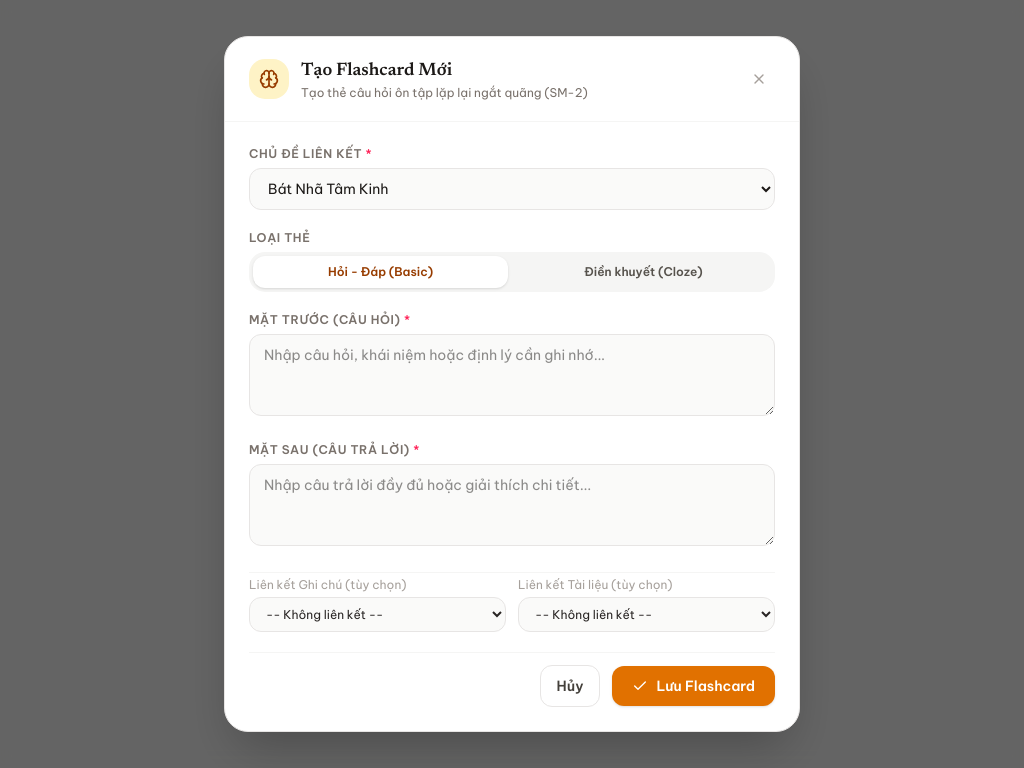
Test: FlashcardFormModal — Unit Tests › validates cloze card: rejects when cloze pattern is missing
The width and height of the screenshot is (1024, 768).
// Switch to cloze
Step 1. Click the button with test id "type-toggle-cloze" → (644, 272), box x1=516 y1=256 x2=771 y2=288
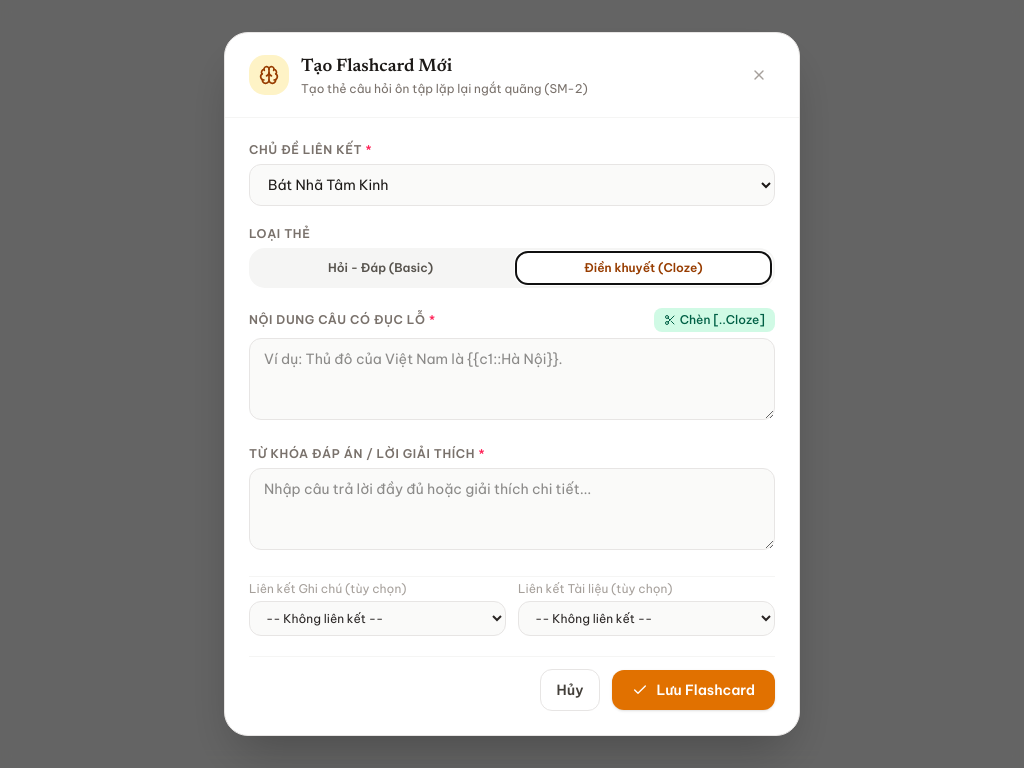
Step 2. Type "Sắc tức thị không (không có ngoặc nhọn)" into the text box with test id "input-front" → (512, 379), box x1=249 y1=338 x2=775 y2=420
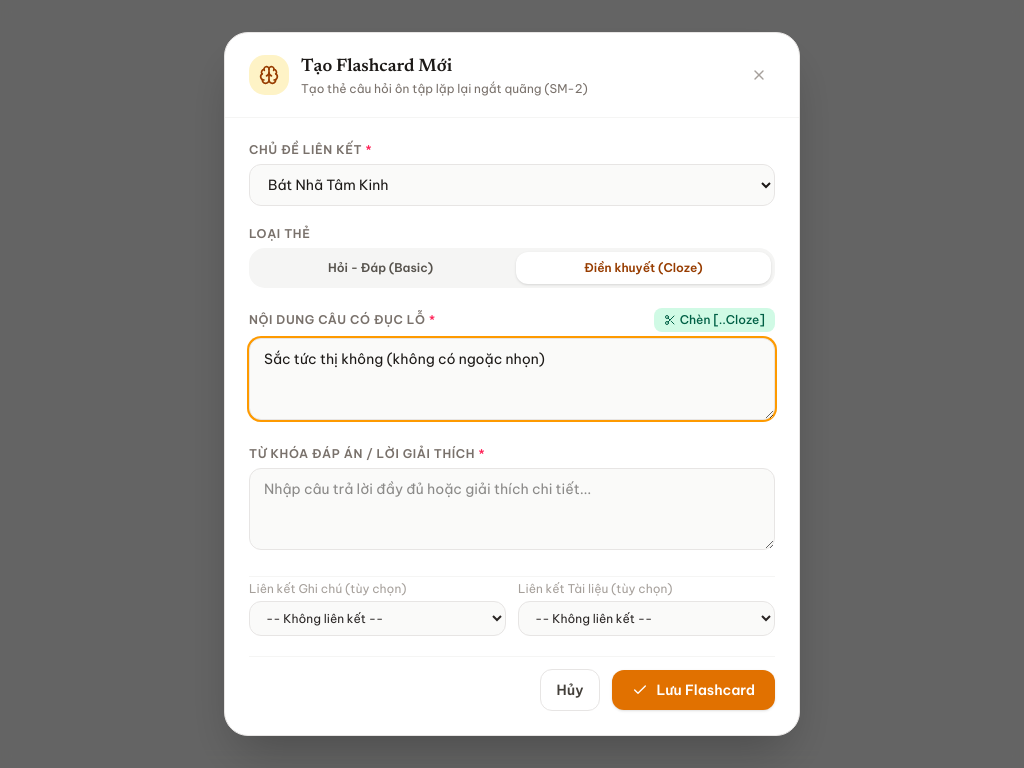
Step 3. Type "Không" into the text box with test id "input-back" → (512, 509), box x1=249 y1=468 x2=775 y2=550
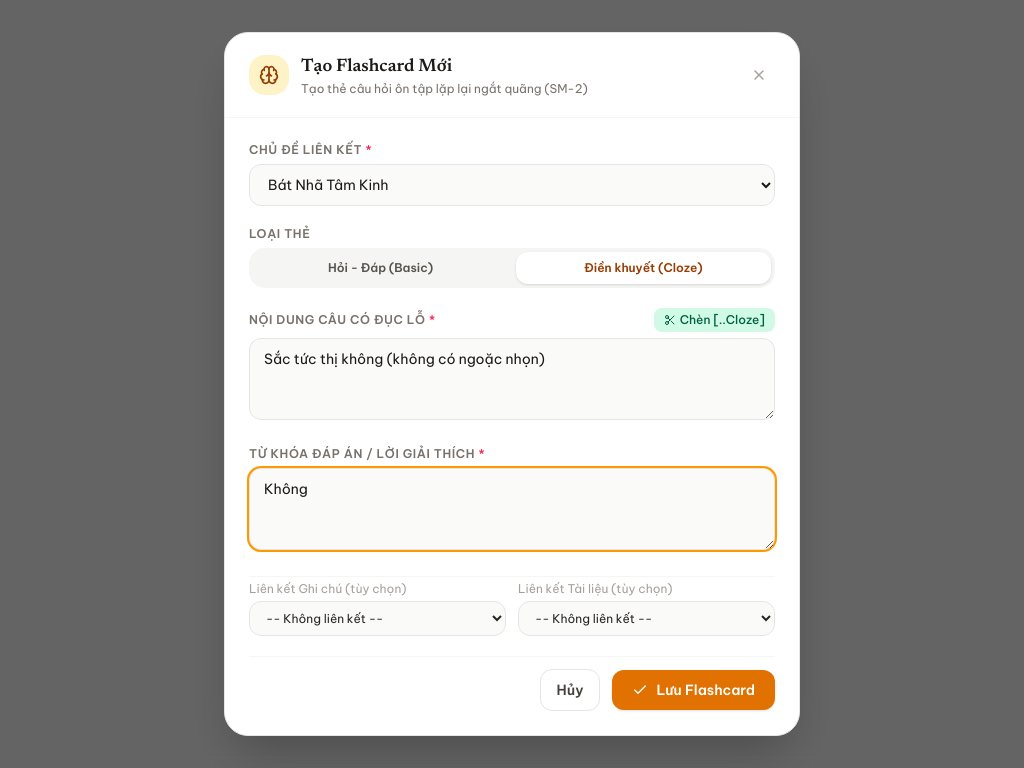
Step 4. Click the button with test id "btn-submit-flashcard" → (694, 690), box x1=612 y1=670 x2=775 y2=710
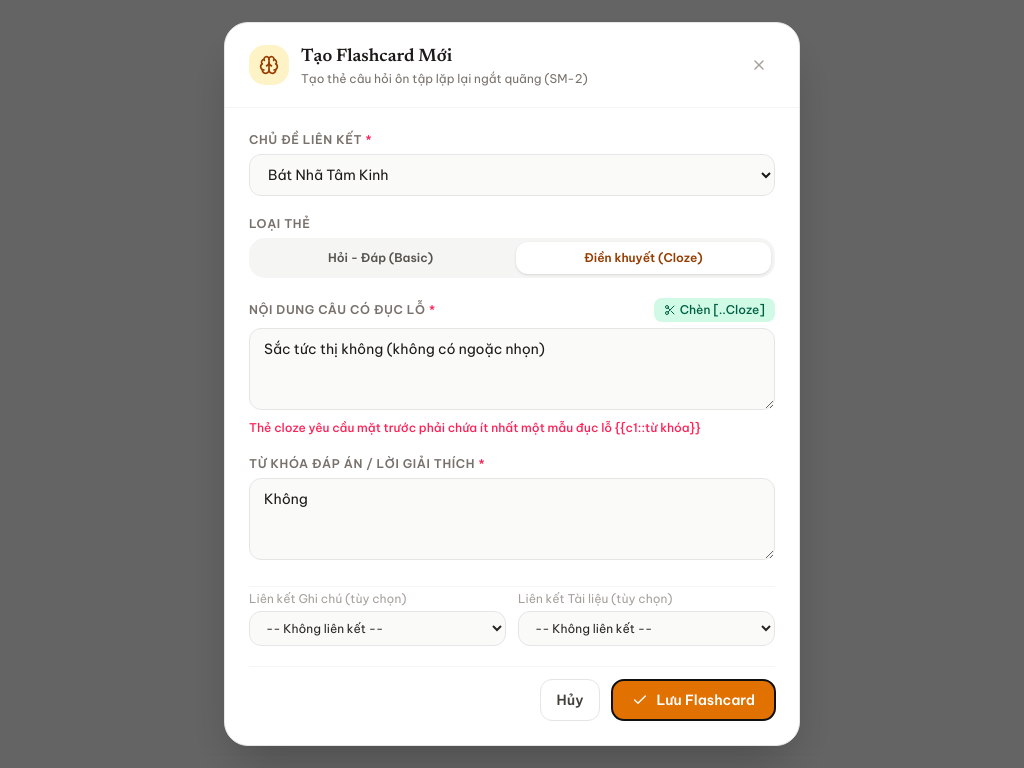
Check: the text with test id "error-front" is shown, box x1=249 y1=420 x2=775 y2=436
Check: the text with test id "error-front" shows "cloze", box x1=249 y1=420 x2=700 y2=435
